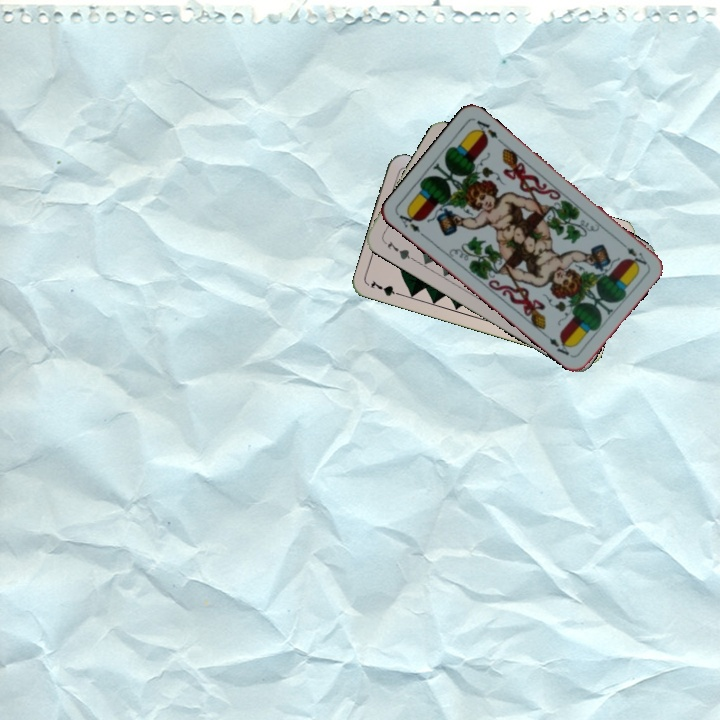EA: (395, 207, 428, 240), (615, 237, 650, 268)
G7: (367, 276, 406, 299), (383, 236, 416, 263)
